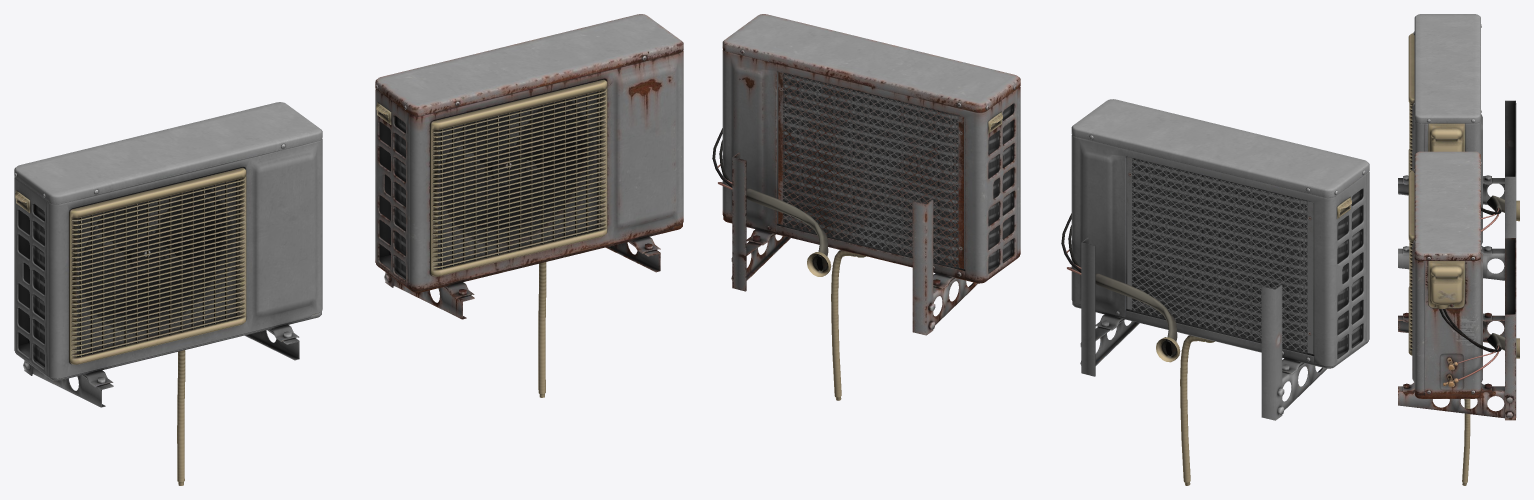
The model's file is exterior_aircon_unit.fbx.
The picture shows the model from 3 angles, left to right: view 1: azimuth 30°, elevation 25°; view 2: azimuth 150°, elevation 25°; view 3: azimuth 270°, elevation 25°; orthographic projection. The views are drawn at different scales.
Visible parts, largest first — view 1: exterior_aircon_unit_rusted, exterior_aircon_unit; view 2: exterior_aircon_unit, exterior_aircon_unit_rusted; view 3: exterior_aircon_unit_rusted, exterior_aircon_unit.
Boxes of the visible parts, x1=… form: exterior_aircon_unit_rusted: x1=375, y1=14, x2=683, y2=397; exterior_aircon_unit: x1=14, y1=102, x2=322, y2=485; exterior_aircon_unit: x1=1061, y1=99, x2=1369, y2=485; exterior_aircon_unit_rusted: x1=712, y1=14, x2=1020, y2=400; exterior_aircon_unit_rusted: x1=1398, y1=151, x2=1519, y2=485; exterior_aircon_unit: x1=1398, y1=14, x2=1519, y2=280.
Size of the model in its own units: 180 by 92.79 by 37.42.
